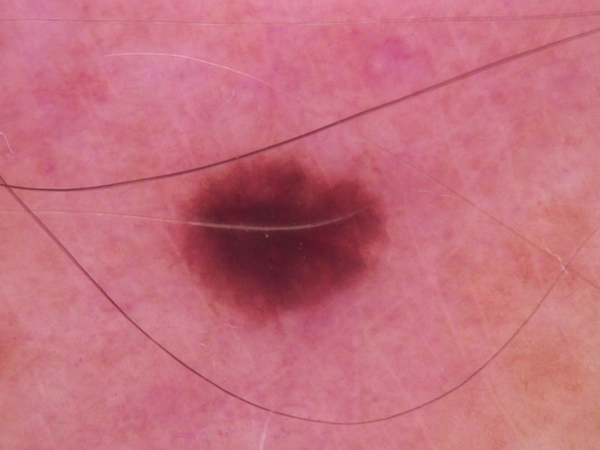Detected Lesion: (165, 144, 395, 330)
